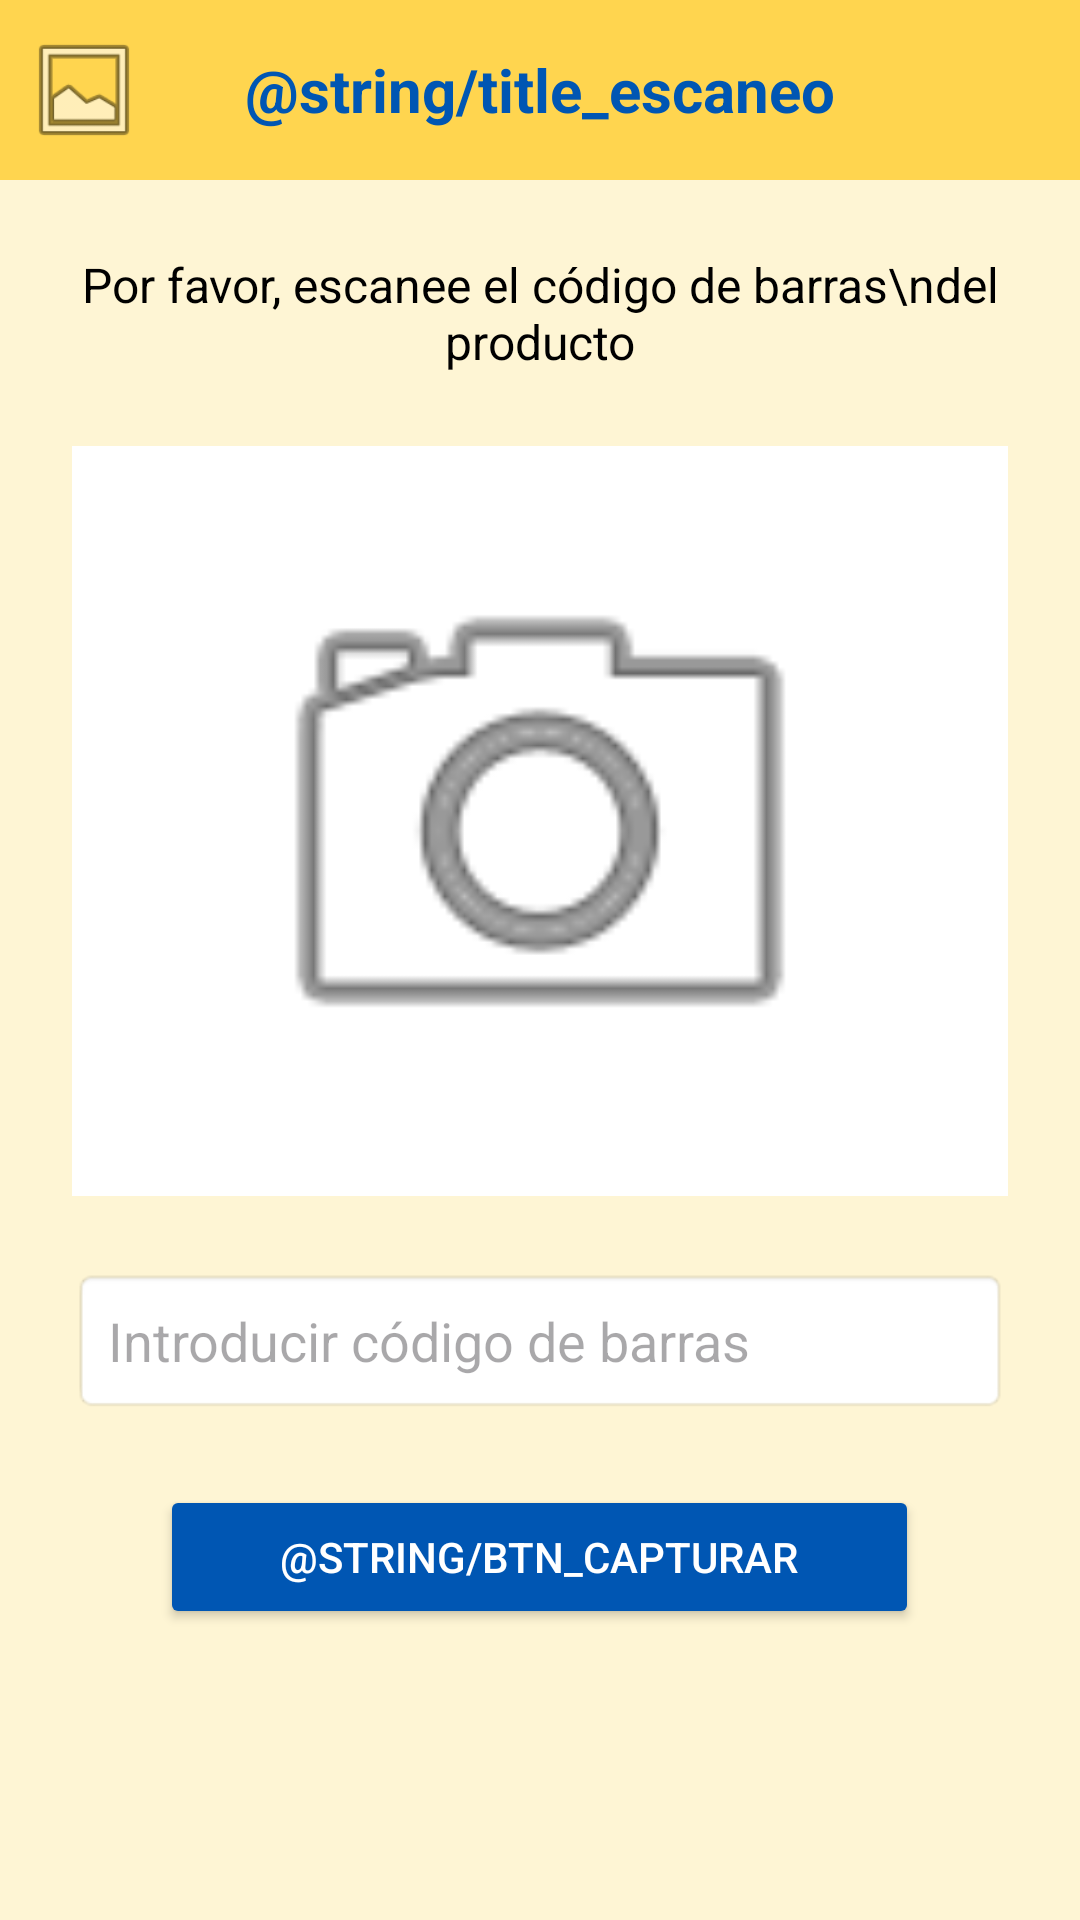

Icons on this 1080 x 1920 Android screen, each with the point to tap as point (x, y):
gallery: point (84, 90)
